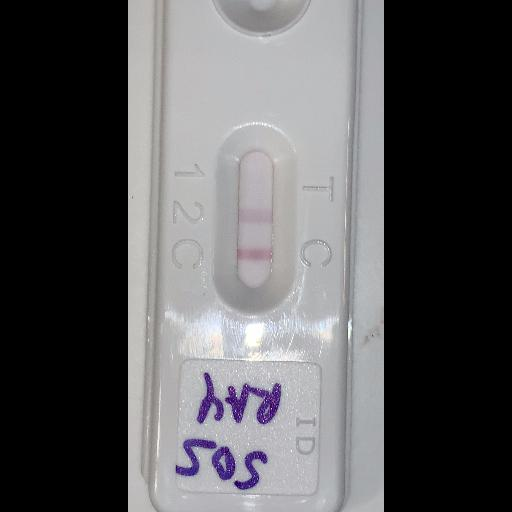Pos: (149, 0, 361, 512)
